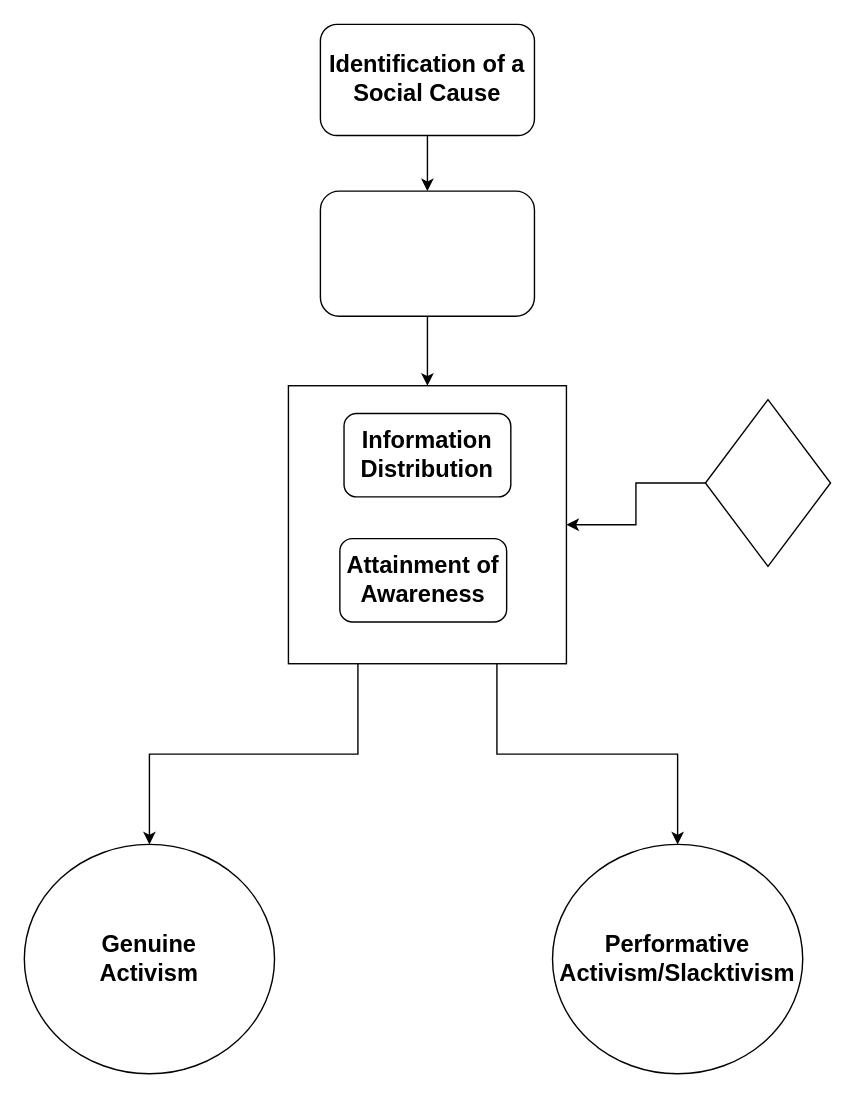
The diagram is 855 pixels wide and 1098 high, and some of its shapes have lost their labels. Here are the shapes that lost their labels. From the top down, the box of each, then its label:
(319, 190, 534, 316): Recognition of a need of awareness
(704, 398, 831, 566): Social Media
